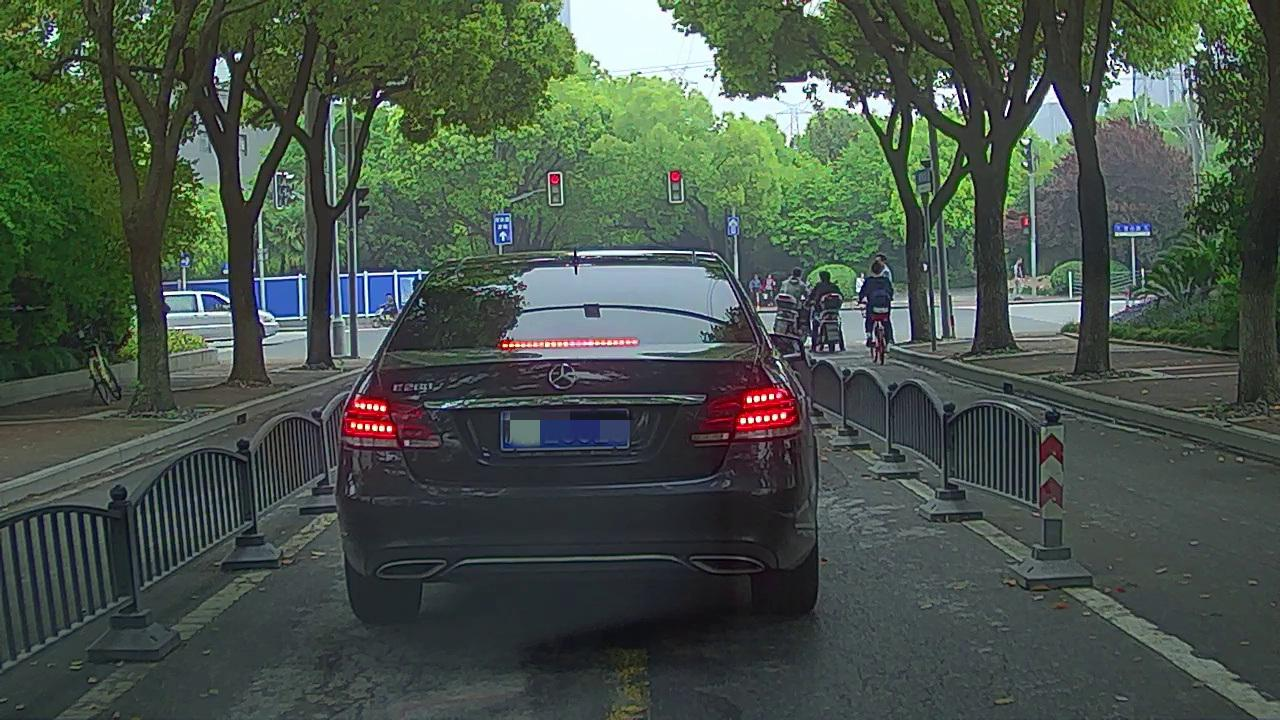traffic_light: (548, 172, 562, 205), (669, 169, 682, 202)
